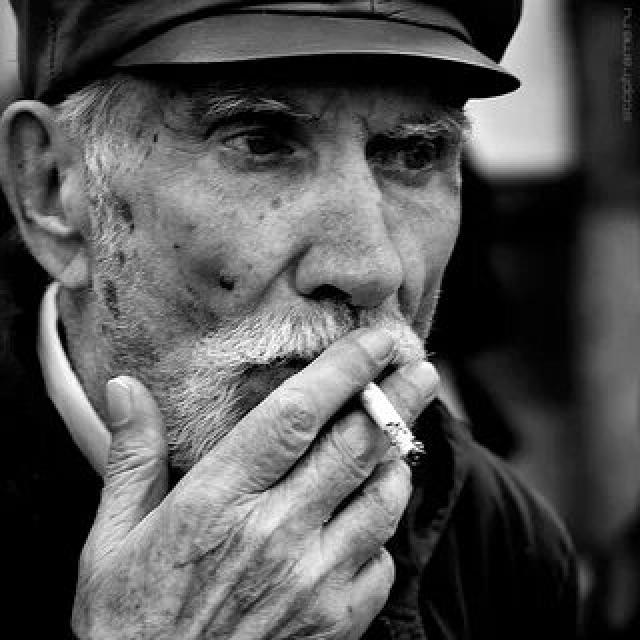smoke: (352, 378, 436, 466)
